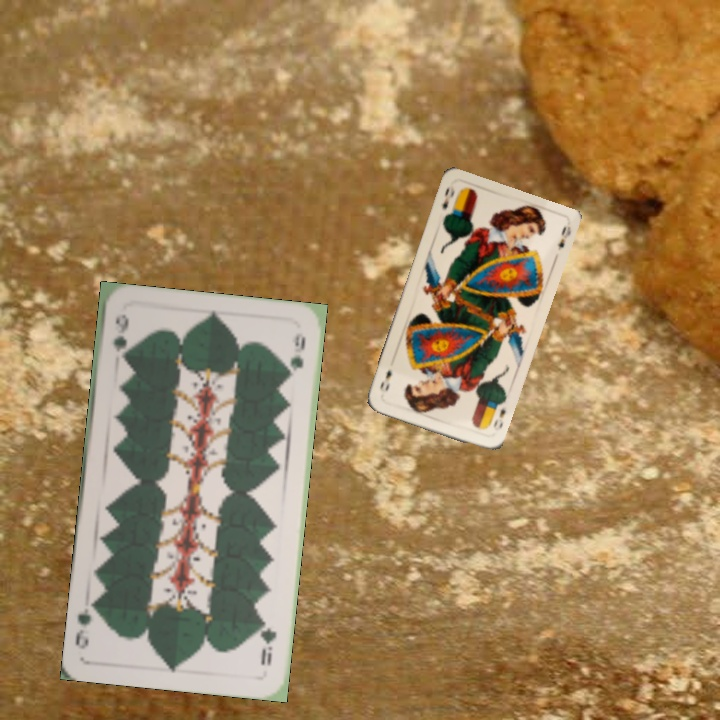EO: (438, 180, 457, 212), (489, 403, 508, 431)
G9: (109, 310, 131, 365), (256, 617, 279, 668)
